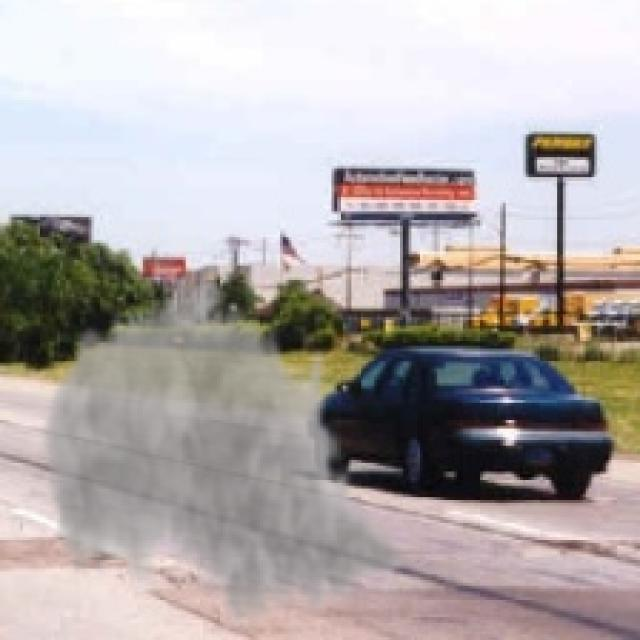Smoke: (37, 262, 409, 638)
